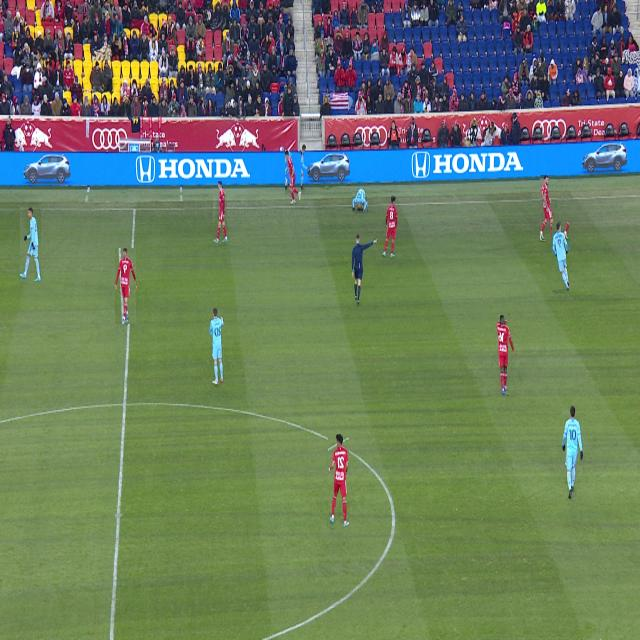player: (328, 434, 349, 527), (562, 406, 583, 498), (20, 208, 41, 282), (116, 249, 136, 324), (497, 315, 514, 395), (209, 308, 224, 385), (540, 176, 558, 240), (553, 223, 569, 291), (382, 196, 397, 258), (286, 150, 301, 205), (214, 182, 227, 243), (353, 189, 367, 212)
referee: (352, 234, 378, 305)
